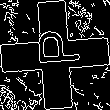P_W: (29, 35, 81, 75)
